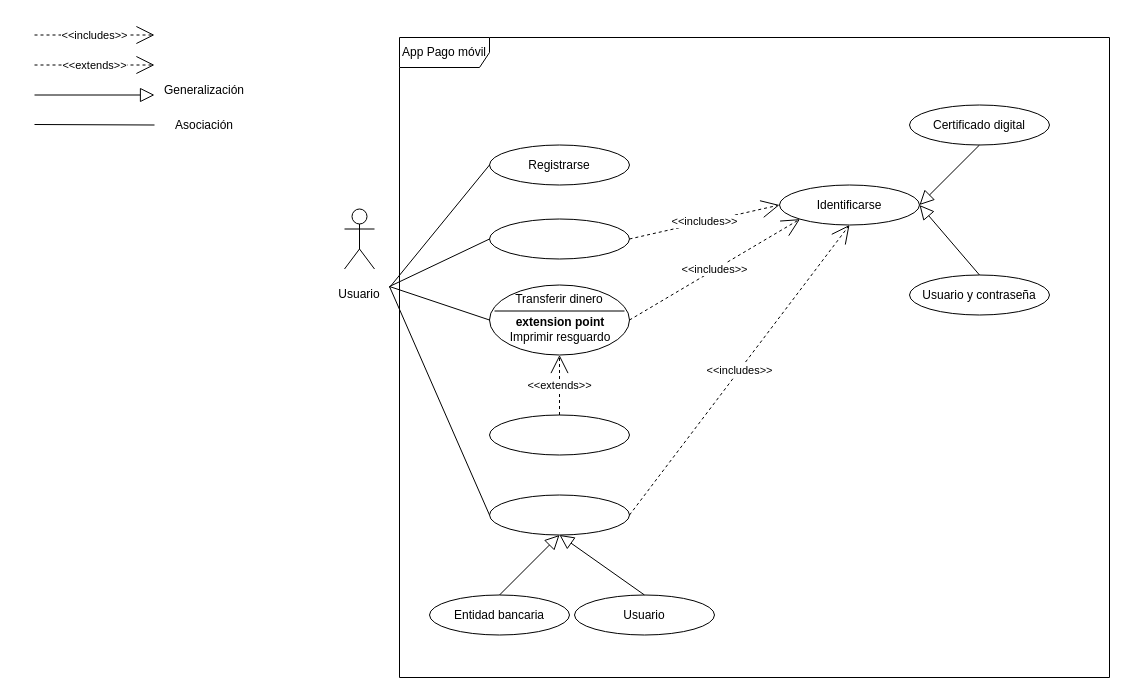
This 1127x695 diagram has some shape labels left out. Each missing label, with the centre of its shape:
"Chatear" belongs at pixel 559 514.
"Imprimir PDF" belongs at pixel 559 434.
"Pagar" belongs at pixel 559 238.
